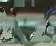Give way: (2, 2, 48, 42)
